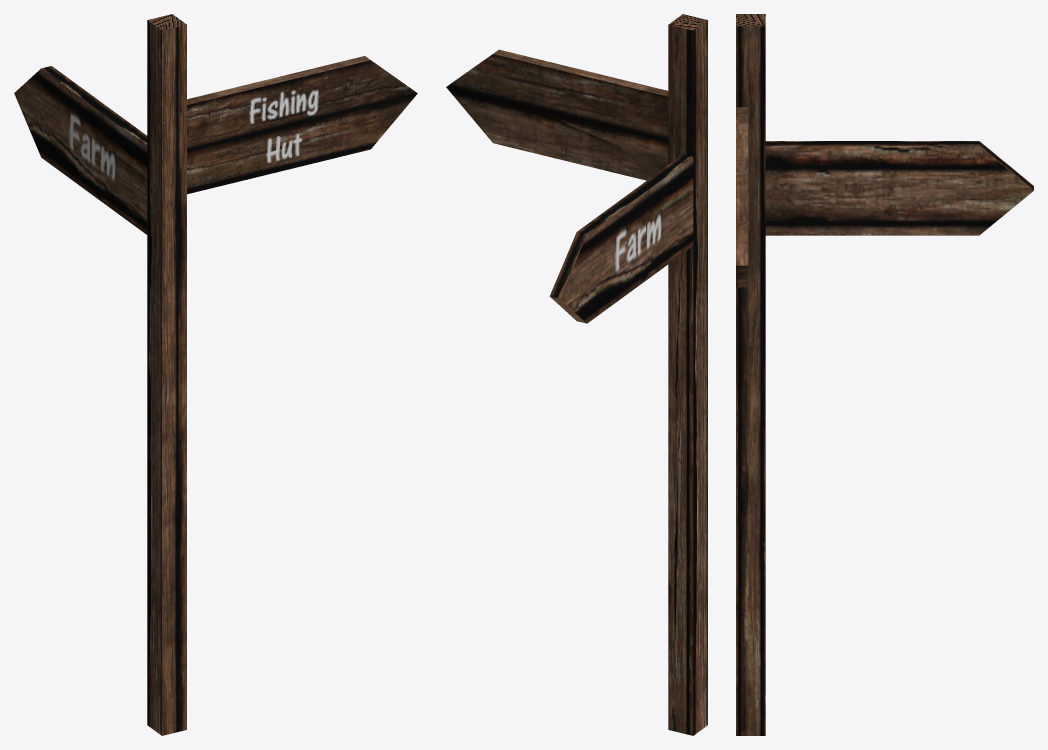
The model's file is direction1.fbx.
3 views of the same model, side by side, from view 1: azimuth 30°, elevation 25°; view 2: azimuth 150°, elevation 25°; view 3: azimuth 270°, elevation 25° (orthographic).
Parts seen in each view (by area): view 1: Plane.068; view 2: Plane.068; view 3: Plane.068.
Boxes of the visible parts, bbox=[...] form: Plane.068: bbox=[14, 14, 417, 735]; Plane.068: bbox=[446, 14, 707, 735]; Plane.068: bbox=[736, 14, 1033, 735].
Bounding box in the file's own units: 132 × 348 × 132.
Materials: 1 (1 with a texture image).
